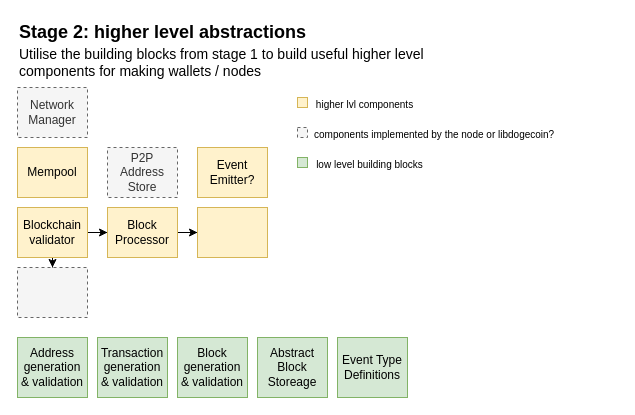
Some shapes in this 635 by 415 pixel diagram are drawn without their labels. The box of each missing label's shape, as (x1, y1, x2, y2) in pixels:
Block Store: (16, 266, 88, 318)
Transaction Processor: (196, 206, 268, 258)
